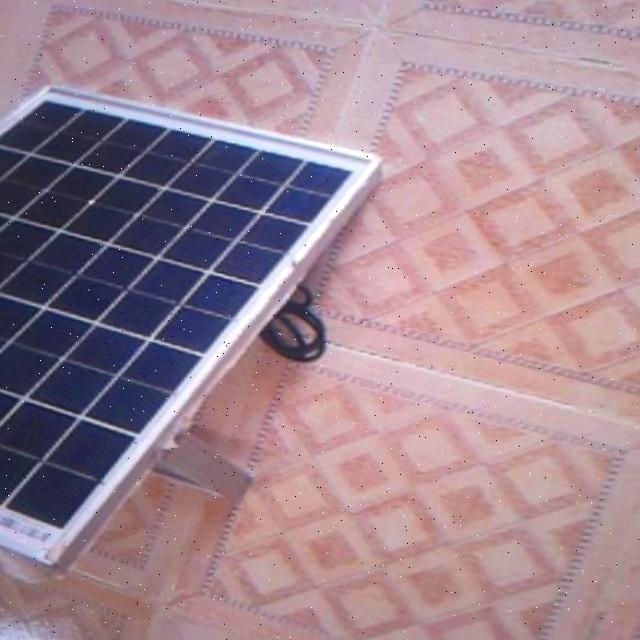Normal Solar Panel: (0, 83, 386, 583)
